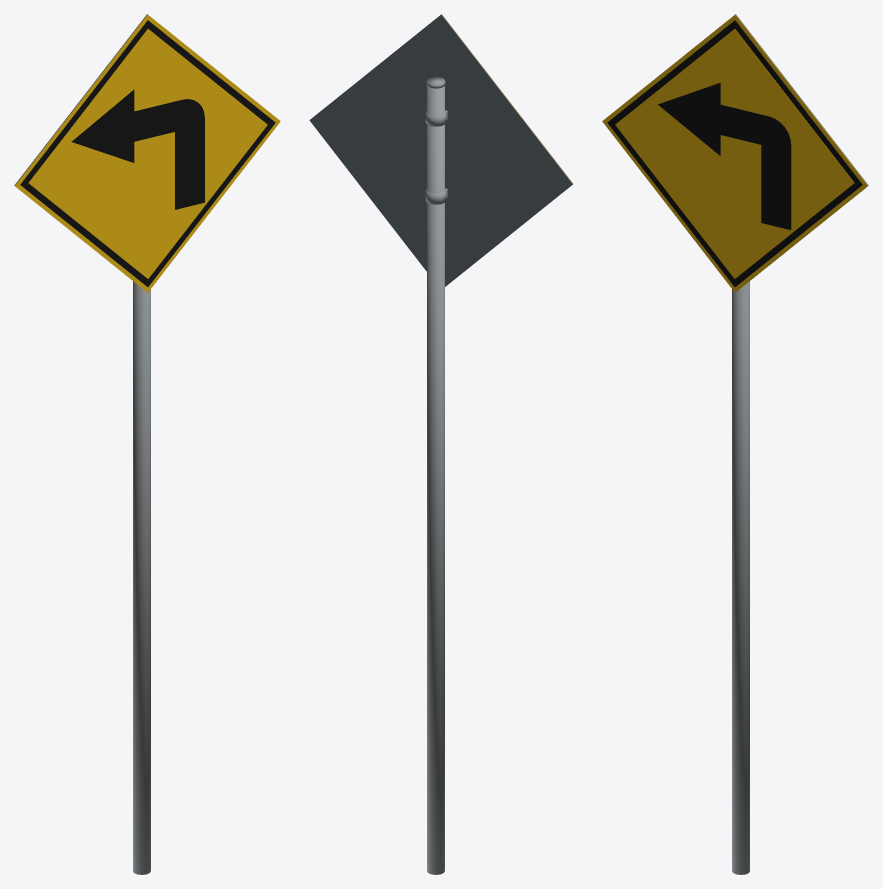
The model's file is PlacaCurvaEsquerdaPoste.fbx.
3 renders of one model, left to right at view 1: azimuth 30°, elevation 25°; view 2: azimuth 150°, elevation 25°; view 3: azimuth 330°, elevation 25°, orthographic.
Visible parts, largest first — view 1: PlacaCurvaEsquerdaPoste; view 2: PlacaCurvaEsquerdaPoste; view 3: PlacaCurvaEsquerdaPoste.
Boxes of the visible parts, x1,y1,x2,y2 form: PlacaCurvaEsquerdaPoste: (14,14,280,874); PlacaCurvaEsquerdaPoste: (309,14,573,874); PlacaCurvaEsquerdaPoste: (602,14,868,874).
Size of the model in its own units: 0.8485 by 2.62 by 0.065.
